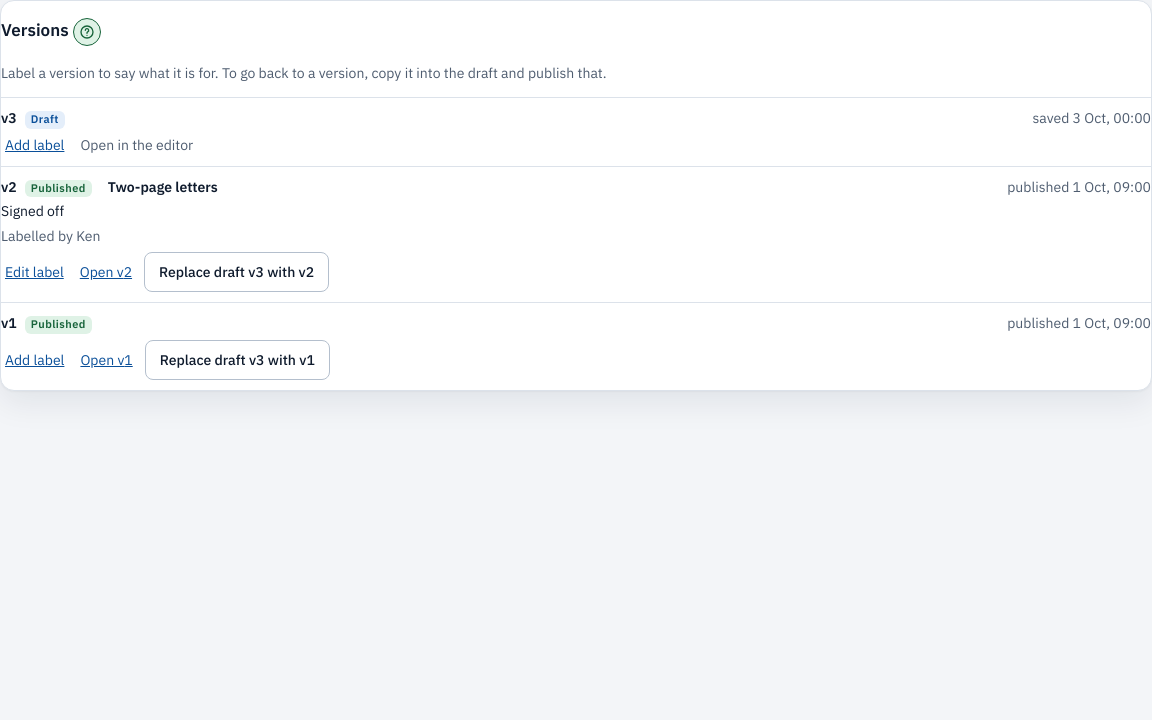
Test: VersionsPanel (#144) › replaces the open draft with an earlier version after a confirm
Click the button "Replace draft v3 with v2" at (237, 272), box x1=144 y1=252 x2=329 y2=292
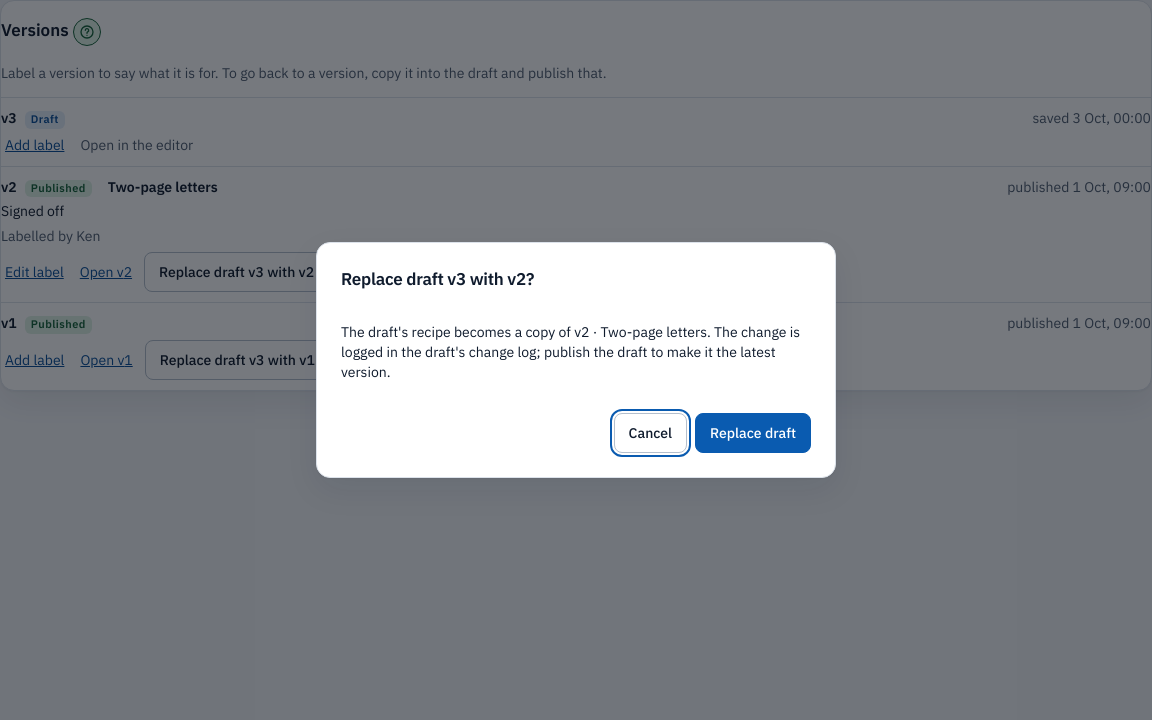
Click the button "Replace draft" at (753, 433), box x1=695 y1=413 x2=811 y2=453
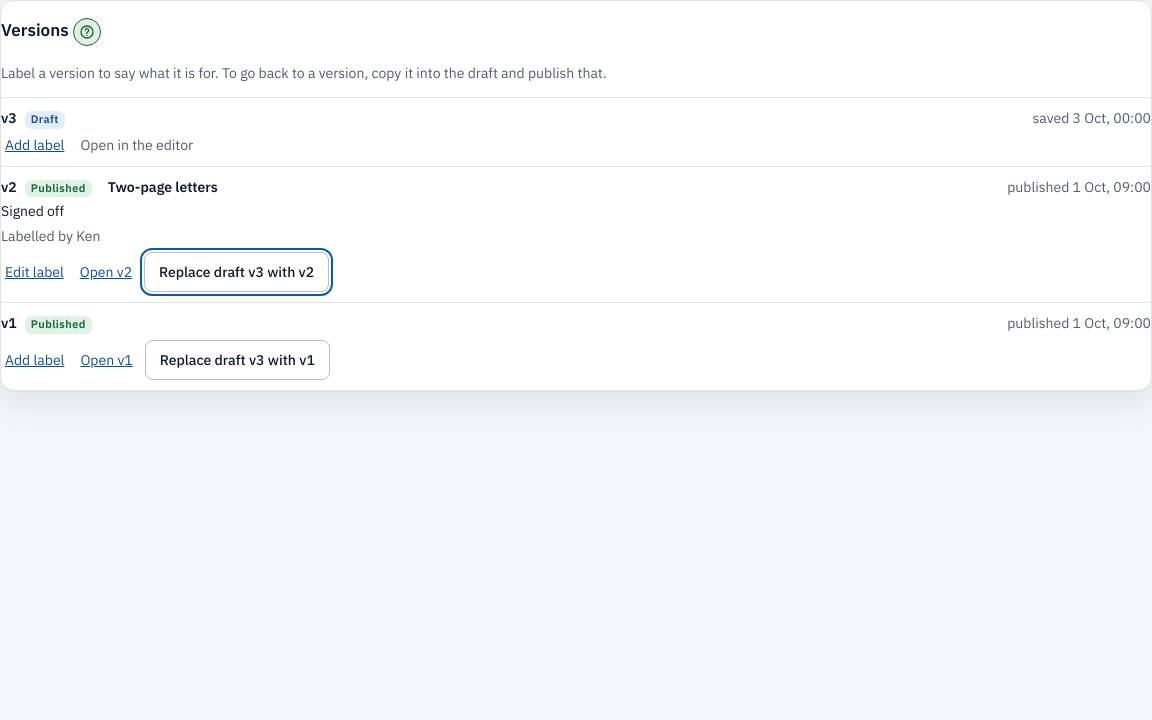
Expected: the dialog is gone
